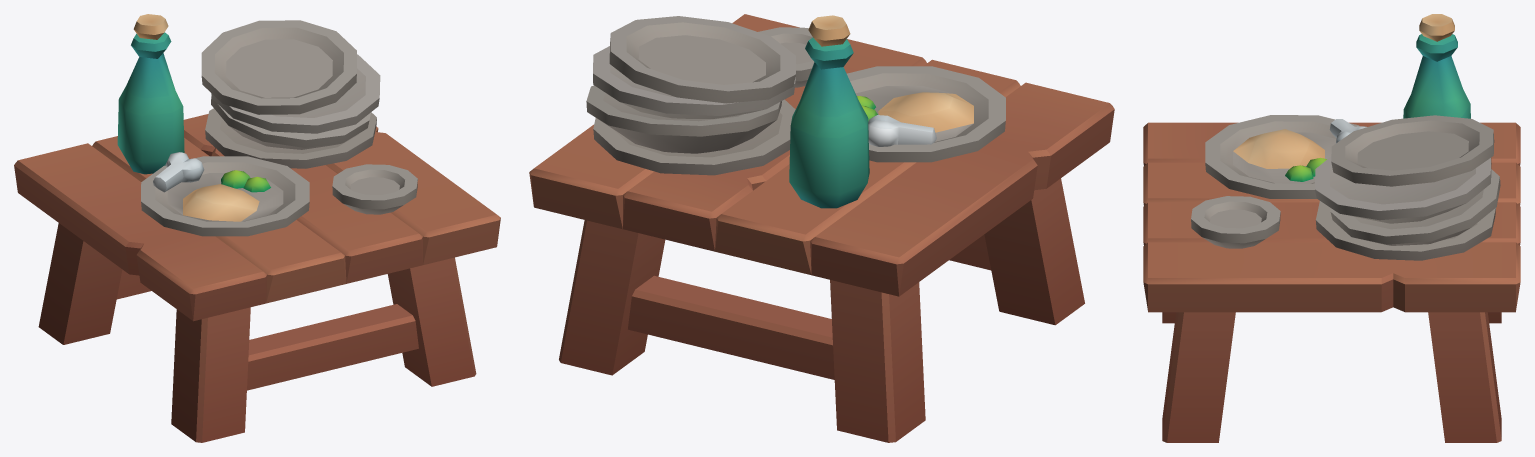
Rendered from table_medium_decorated_A.gltf.
The picture shows the model from 3 angles, left to right: view 1: azimuth 30°, elevation 25°; view 2: azimuth 150°, elevation 25°; view 3: azimuth 270°, elevation 25°; orthographic projection. The views are drawn at different scales.
Parts seen in each view (by area): view 1: table_medium_decorated_A; view 2: table_medium_decorated_A; view 3: table_medium_decorated_A.
Part boxes in pixels (x1=…): table_medium_decorated_A: x1=14, y1=14, x2=500, y2=442; table_medium_decorated_A: x1=529, y1=14, x2=1114, y2=442; table_medium_decorated_A: x1=1143, y1=14, x2=1520, y2=442.
Bounding box in the file's own units: 2 × 1.89 × 2.
Materials: 1 (1 with a texture image).
